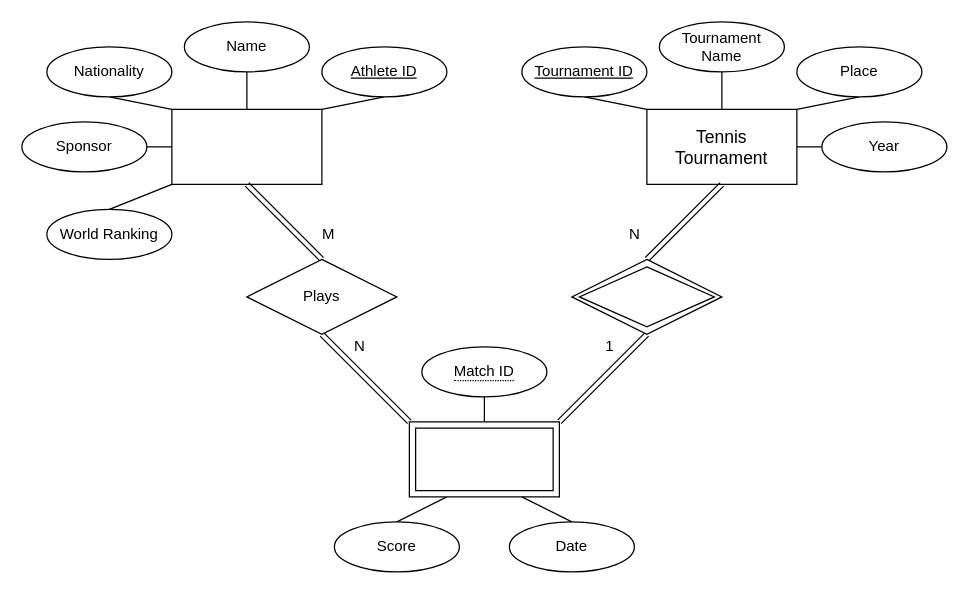
This 969x594 diagram has some shape labels left out. The box of each missing label's shape, as (x1, y1, x2, y2) in pixels:
Athlete: (171, 108, 322, 184)
Has: (571, 258, 722, 334)
Match: (408, 421, 559, 497)
